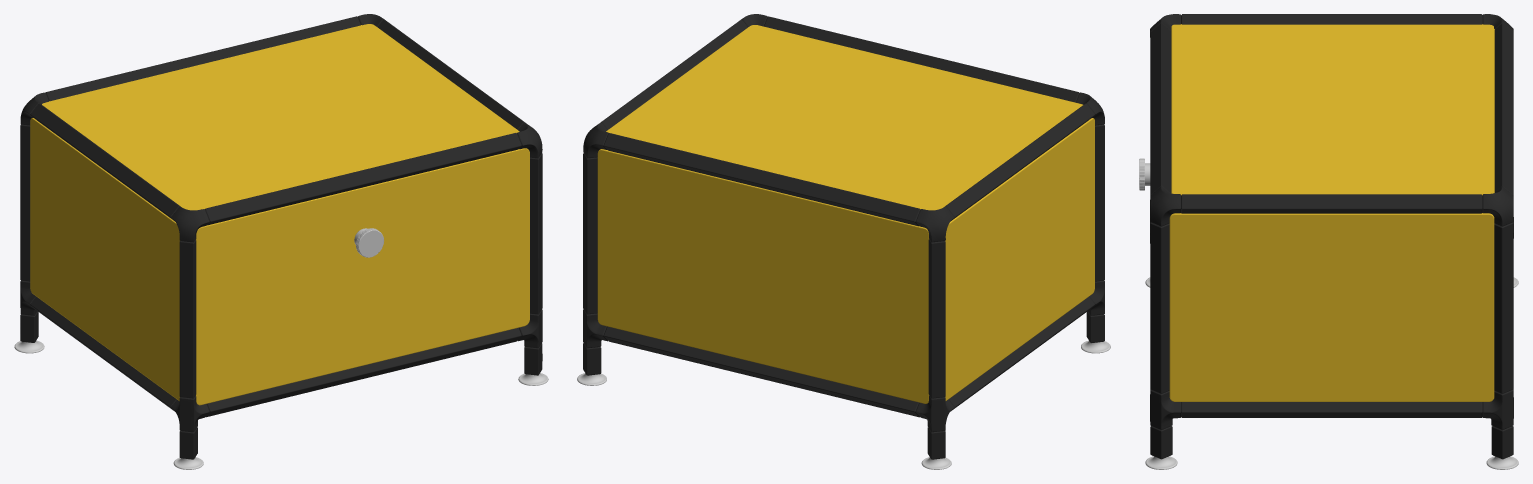
The picture shows the model from 3 angles, left to right: view 1: azimuth 30°, elevation 25°; view 2: azimuth 150°, elevation 25°; view 3: azimuth 270°, elevation 25°; orthographic projection. The views are drawn at different scales.
Parts seen in each view (by area): view 1: 479x374x229; view 2: 479x374x229; view 3: 479x374x229.
Part boxes in pixels (x1=…): 479x374x229: x1=14, y1=14, x2=548, y2=469; 479x374x229: x1=577, y1=14, x2=1110, y2=469; 479x374x229: x1=1139, y1=14, x2=1518, y2=469.
Bounding box in the file's own units: 0.5689 × 0.3684 × 0.4708.
